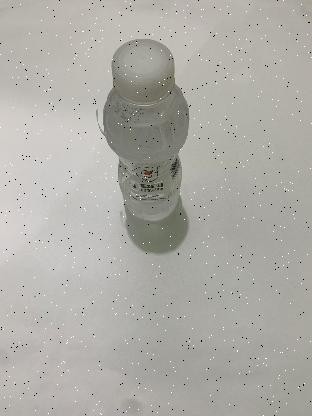Plastic Bottle: (103, 38, 189, 221)
